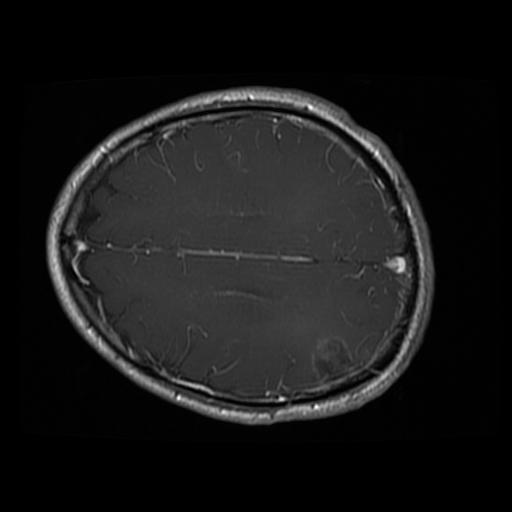glioma: (307, 335, 352, 385)
